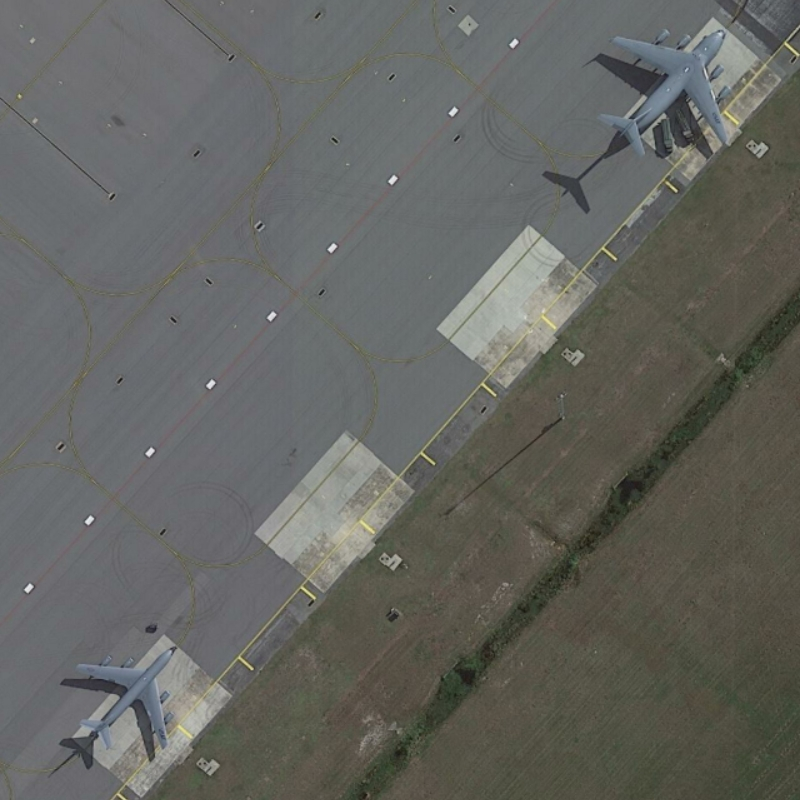A14: (63, 639, 186, 760)
A3: (595, 20, 738, 161)
